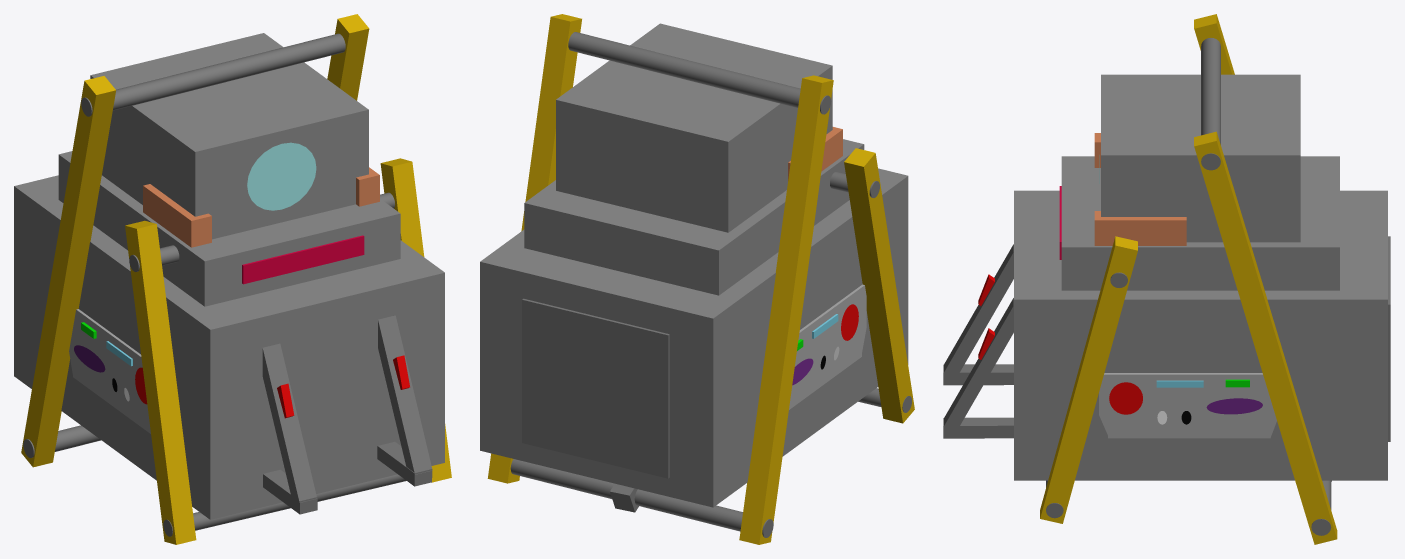
Rendered from Force_Gun.fbx.
The picture shows the model from 3 angles, left to right: view 1: azimuth 30°, elevation 25°; view 2: azimuth 150°, elevation 25°; view 3: azimuth 270°, elevation 25°; orthographic projection. The views are drawn at different scales.
Parts seen in each view (by area): view 1: pCube5, pasted__pCube6 (×2), pasted__pasted__pCube6, pasted__pCylinder1 (×2), pCube9, pasted__pasted__pCube8, pasted__group16_pasted__pasted__pCube11, pDisc4, pCube12, pasted__pCube4, pCube6, pasted__pasted__pCylinder1 (+1 smaller); view 2: pCube5, pCube7, pasted__pCube6, pasted__pasted__pCube6 (×2), pCube6, pasted__pCylinder1, pasted__group16_pasted__pasted__pCube11, pasted__pasted__pCylinder1, pasted__pCube4; view 3: pCube5, pCube6, pasted__pasted__group16_pasted__pasted__pCube11, pasted__pCube6 (×2), pCube9, pasted__pasted__pCube8, pCube4, pasted__pCylinder1, pDisc1, pDisc2, pCube7.
Boxes of the visible parts, bbox=[...] form: pCube5: bbox=[14, 33, 444, 519]; pasted__pCube6 (×2): bbox=[21, 76, 451, 482]; pasted__pasted__pCube6: bbox=[125, 220, 196, 544]; pasted__pCylinder1 (×2): bbox=[81, 33, 406, 536]; pCube9: bbox=[377, 315, 432, 486]; pasted__pasted__pCube8: bbox=[262, 343, 317, 514]; pasted__group16_pasted__pasted__pCube11: bbox=[69, 309, 150, 433]; pDisc4: bbox=[247, 142, 316, 210]; pCube12: bbox=[242, 235, 364, 284]; pasted__pCube4: bbox=[143, 184, 211, 247]; pCube6: bbox=[327, 14, 369, 100]; pasted__pasted__pCylinder1: bbox=[23, 425, 100, 457]; pCube5: bbox=[480, 23, 908, 507]; pCube7: bbox=[522, 298, 669, 478]; pasted__pCube6: bbox=[739, 75, 833, 544]; pasted__pasted__pCube6 (×2): bbox=[610, 148, 914, 512]; pCube6: bbox=[487, 14, 581, 483]; pasted__pCylinder1: bbox=[568, 32, 831, 114]; pasted__group16_pasted__pasted__pCube11: bbox=[789, 284, 866, 409]; pasted__pasted__pCylinder1: bbox=[510, 459, 773, 537]; pasted__pCube4: bbox=[788, 127, 842, 180]; pCube5: bbox=[1014, 74, 1387, 480]; pCube6: bbox=[1194, 131, 1337, 544]; pasted__pasted__group16_pasted__pasted__pCube11: bbox=[1099, 373, 1276, 438]; pasted__pCube6 (×2): bbox=[1040, 14, 1234, 523]; pCube9: bbox=[943, 298, 1013, 438]; pasted__pasted__pCube8: bbox=[943, 244, 1013, 385]; pCube4: bbox=[1094, 211, 1186, 245]; pasted__pCylinder1: bbox=[1201, 38, 1220, 170]; pDisc1: bbox=[1109, 382, 1142, 414]; pDisc2: bbox=[1206, 398, 1262, 414]; pCube7: bbox=[1388, 236, 1390, 441].
Bounding box in the file's own units: 1.53 × 2.23 × 2.24.
